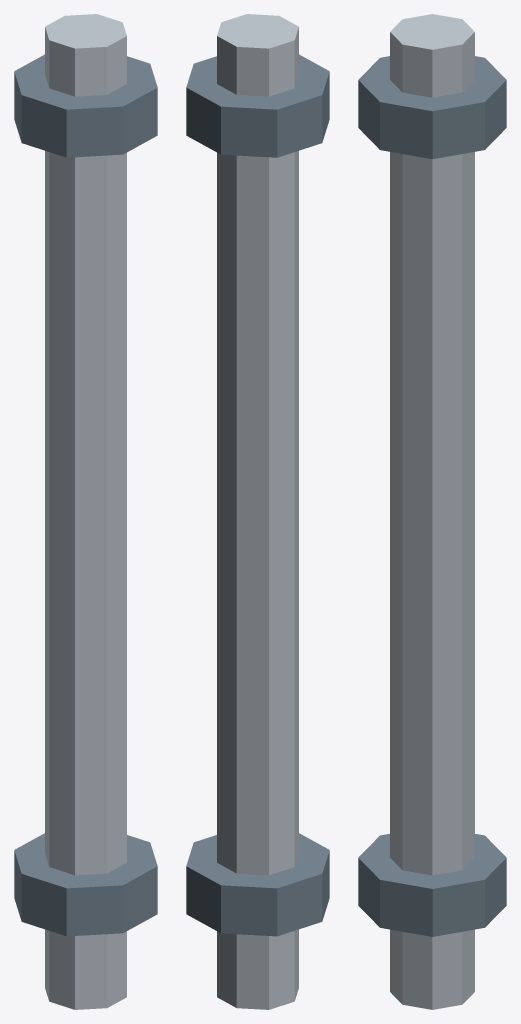
The model's file is grua_cable_unidad.glb.
3 renders of one model, left to right at view 1: azimuth 30°, elevation 25°; view 2: azimuth 150°, elevation 25°; view 3: azimuth 270°, elevation 25°, orthographic.
Parts seen in each view (by area): view 1: grua_cable_unidad; view 2: grua_cable_unidad; view 3: grua_cable_unidad.
Boxes of the visible parts, x1=… form: grua_cable_unidad: x1=14, y1=14, x2=157, y2=1009; grua_cable_unidad: x1=186, y1=14, x2=329, y2=1009; grua_cable_unidad: x1=358, y1=14, x2=506, y2=1009.
Bounding box in the file's own units: 0.14 × 1 × 0.14.
